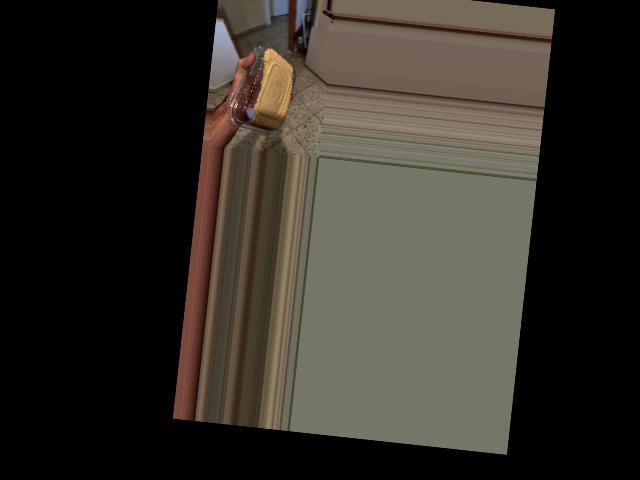cheese: (241, 63, 286, 142)
